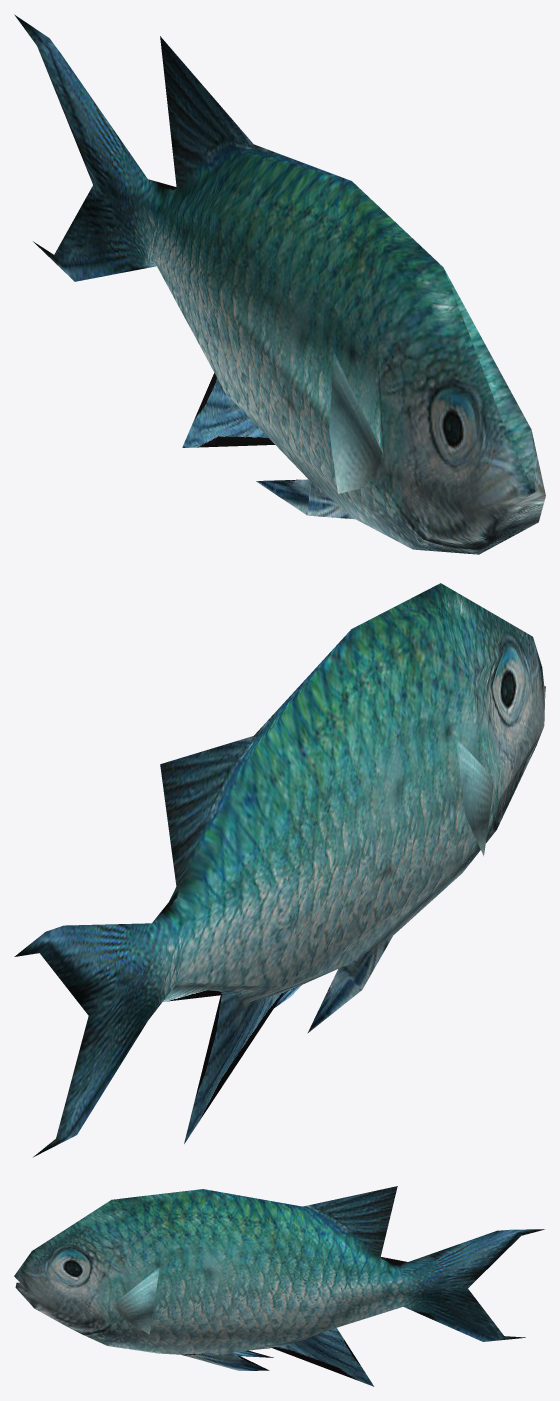
The model's file is Blue-Green.fbx.
The picture shows the model from 3 angles, top to bottom: view 1: azimuth 30°, elevation 25°; view 2: azimuth 150°, elevation 25°; view 3: azimuth 270°, elevation 25°; orthographic projection. The views are drawn at different scales.
Parts seen in each view (by area): view 1: 13007_Blue-Green_Reef_Chromis_v2_l3; view 2: 13007_Blue-Green_Reef_Chromis_v2_l3; view 3: 13007_Blue-Green_Reef_Chromis_v2_l3.
Boxes of the visible parts, left/top/right/bottom form: 13007_Blue-Green_Reef_Chromis_v2_l3: left=14, top=14, right=545, bottom=554; 13007_Blue-Green_Reef_Chromis_v2_l3: left=14, top=583, right=545, bottom=1157; 13007_Blue-Green_Reef_Chromis_v2_l3: left=14, top=1186, right=544, bottom=1386.
Size of the model in its own units: 125 by 327 by 785.
